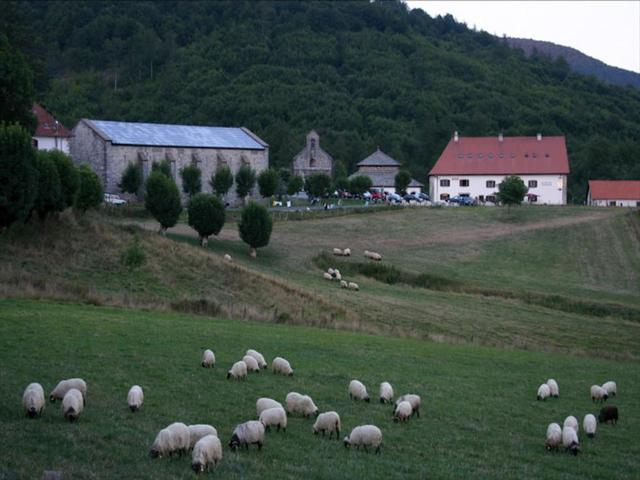sheep: (180, 433, 235, 475), (13, 380, 48, 424), (192, 344, 218, 372), (217, 249, 236, 264)
